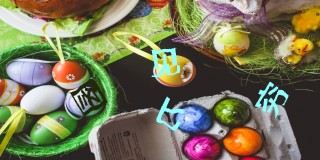匕: (154, 96, 183, 131)
图: (70, 78, 107, 117)
穷: (255, 80, 290, 117)
见: (151, 46, 183, 77)
